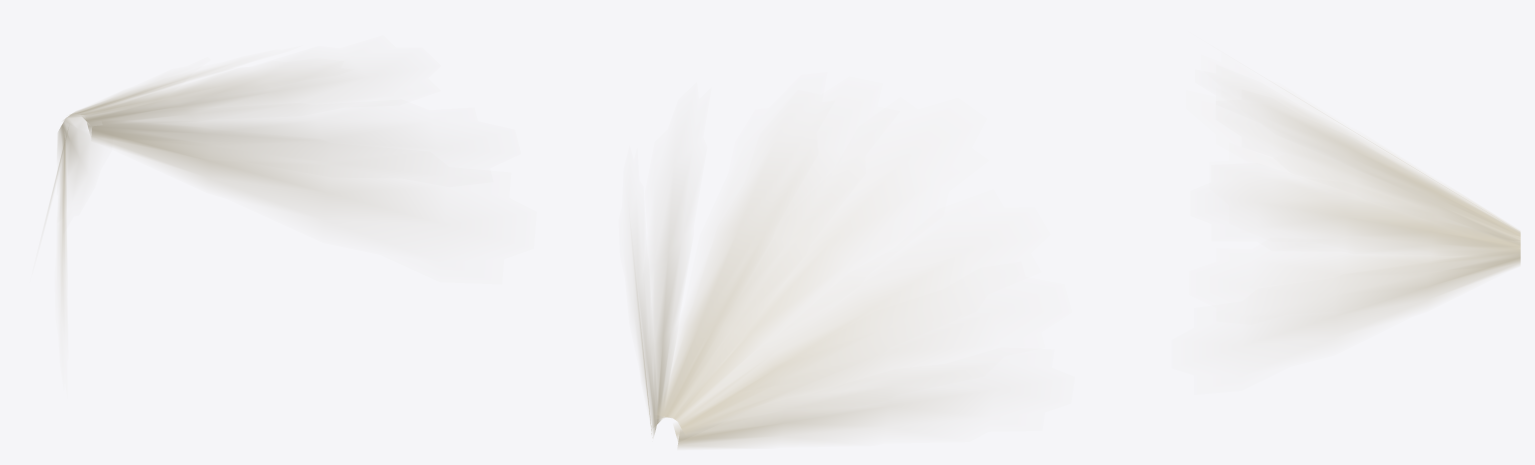
The model's file is SM_LightBurst.glb.
The picture shows the model from 3 angles, left to right: view 1: azimuth 30°, elevation 25°; view 2: azimuth 150°, elevation 25°; view 3: azimuth 270°, elevation 25°; orthographic projection. The views are drawn at different scales.
Parts seen in each view (by area): view 1: SM_LightBurst; view 2: SM_LightBurst; view 3: SM_LightBurst.
Boxes of the visible parts, box(x1,y1,x2,y2) form: SM_LightBurst: box(45, 63, 430, 317); SM_LightBurst: box(630, 139, 982, 448); SM_LightBurst: box(1232, 86, 1520, 346).
Bounding box in the file's own units: 8.48 × 5.86 × 6.06.
